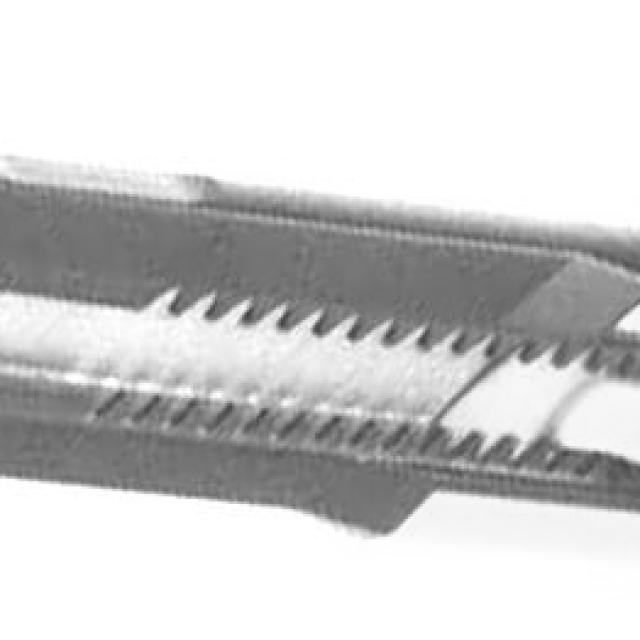estilete: (0, 162, 640, 558)
